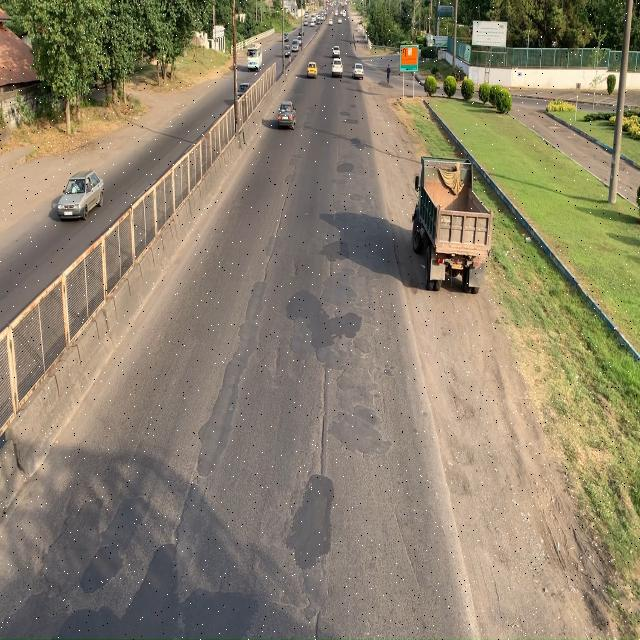Truck: (415, 154, 494, 286)
cars: (58, 168, 104, 222), (276, 100, 295, 131)
